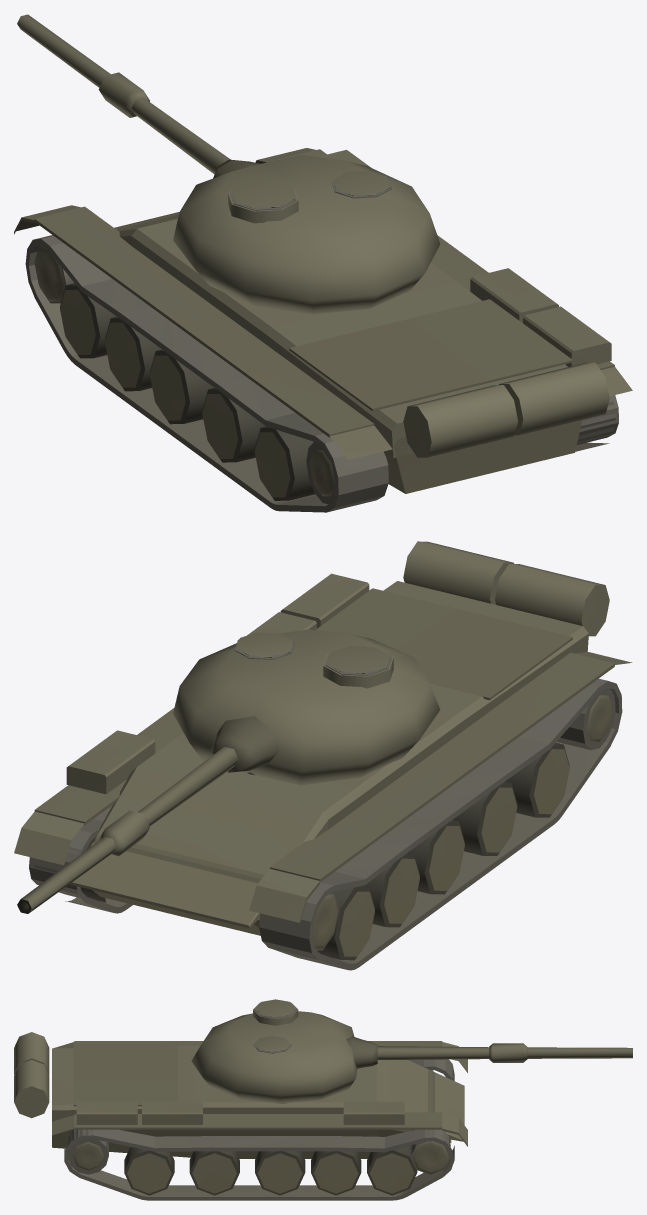
3 views of the same model, one above another, from view 1: azimuth 30°, elevation 25°; view 2: azimuth 150°, elevation 25°; view 3: azimuth 270°, elevation 25° (orthographic). The views are drawn at different scales.
Visible parts, largest first — view 1: Hull_T62_Paint, TurretYaw_T62_Paint, LeftTrack_T62_TrackSteel, LeftTrack_T62_Paint, LeftTrack_T62_Rubber, BarrelRecoil_T62_Paint, RightTrack_T62_TrackSteel; view 2: Hull_T62_Paint, TurretYaw_T62_Paint, LeftTrack_T62_TrackSteel, LeftTrack_T62_Paint, LeftTrack_T62_Rubber, BarrelRecoil_T62_Paint, GunPitch_T62_Paint, RightTrack_T62_TrackSteel; view 3: Hull_T62_Paint, TurretYaw_T62_Paint, RightTrack_T62_TrackSteel, RightTrack_T62_Paint, BarrelRecoil_T62_Paint, RightTrack_T62_Rubber, GunPitch_T62_Paint, LeftTrack_T62_TrackSteel.
Boxes of the visible parts, <box> form: Hull_T62_Paint: <box>14,148,632,493</box>; TurretYaw_T62_Paint: <box>173,154,440,314</box>; LeftTrack_T62_TrackSteel: <box>25,235,388,512</box>; LeftTrack_T62_Paint: <box>35,247,335,497</box>; LeftTrack_T62_Rubber: <box>60,283,315,500</box>; BarrelRecoil_T62_Paint: <box>17,14,230,174</box>; RightTrack_T62_TrackSteel: <box>575,395,618,451</box>; Hull_T62_Paint: <box>14,541,632,935</box>; TurretYaw_T62_Paint: <box>173,629,440,785</box>; LeftTrack_T62_TrackSteel: <box>259,678,622,970</box>; LeftTrack_T62_Paint: <box>312,695,612,956</box>; LeftTrack_T62_Rubber: <box>317,743,569,960</box>; BarrelRecoil_T62_Paint: <box>17,747,238,913</box>; GunPitch_T62_Paint: <box>211,716,279,772</box>; RightTrack_T62_TrackSteel: <box>29,805,132,913</box>; Hull_T62_Paint: <box>14,1032,467,1158</box>; TurretYaw_T62_Paint: <box>191,999,356,1103</box>; RightTrack_T62_TrackSteel: <box>64,1129,454,1200</box>; RightTrack_T62_Paint: <box>72,1141,449,1193</box>; BarrelRecoil_T62_Paint: <box>377,1043,632,1062</box>; RightTrack_T62_Rubber: <box>124,1145,417,1195</box>; GunPitch_T62_Paint: <box>346,1036,377,1068</box>; LeftTrack_T62_TrackSteel: <box>408,1059,454,1080</box>.
Size of the model in its own units: 3.3 by 2.4 by 9.95.
